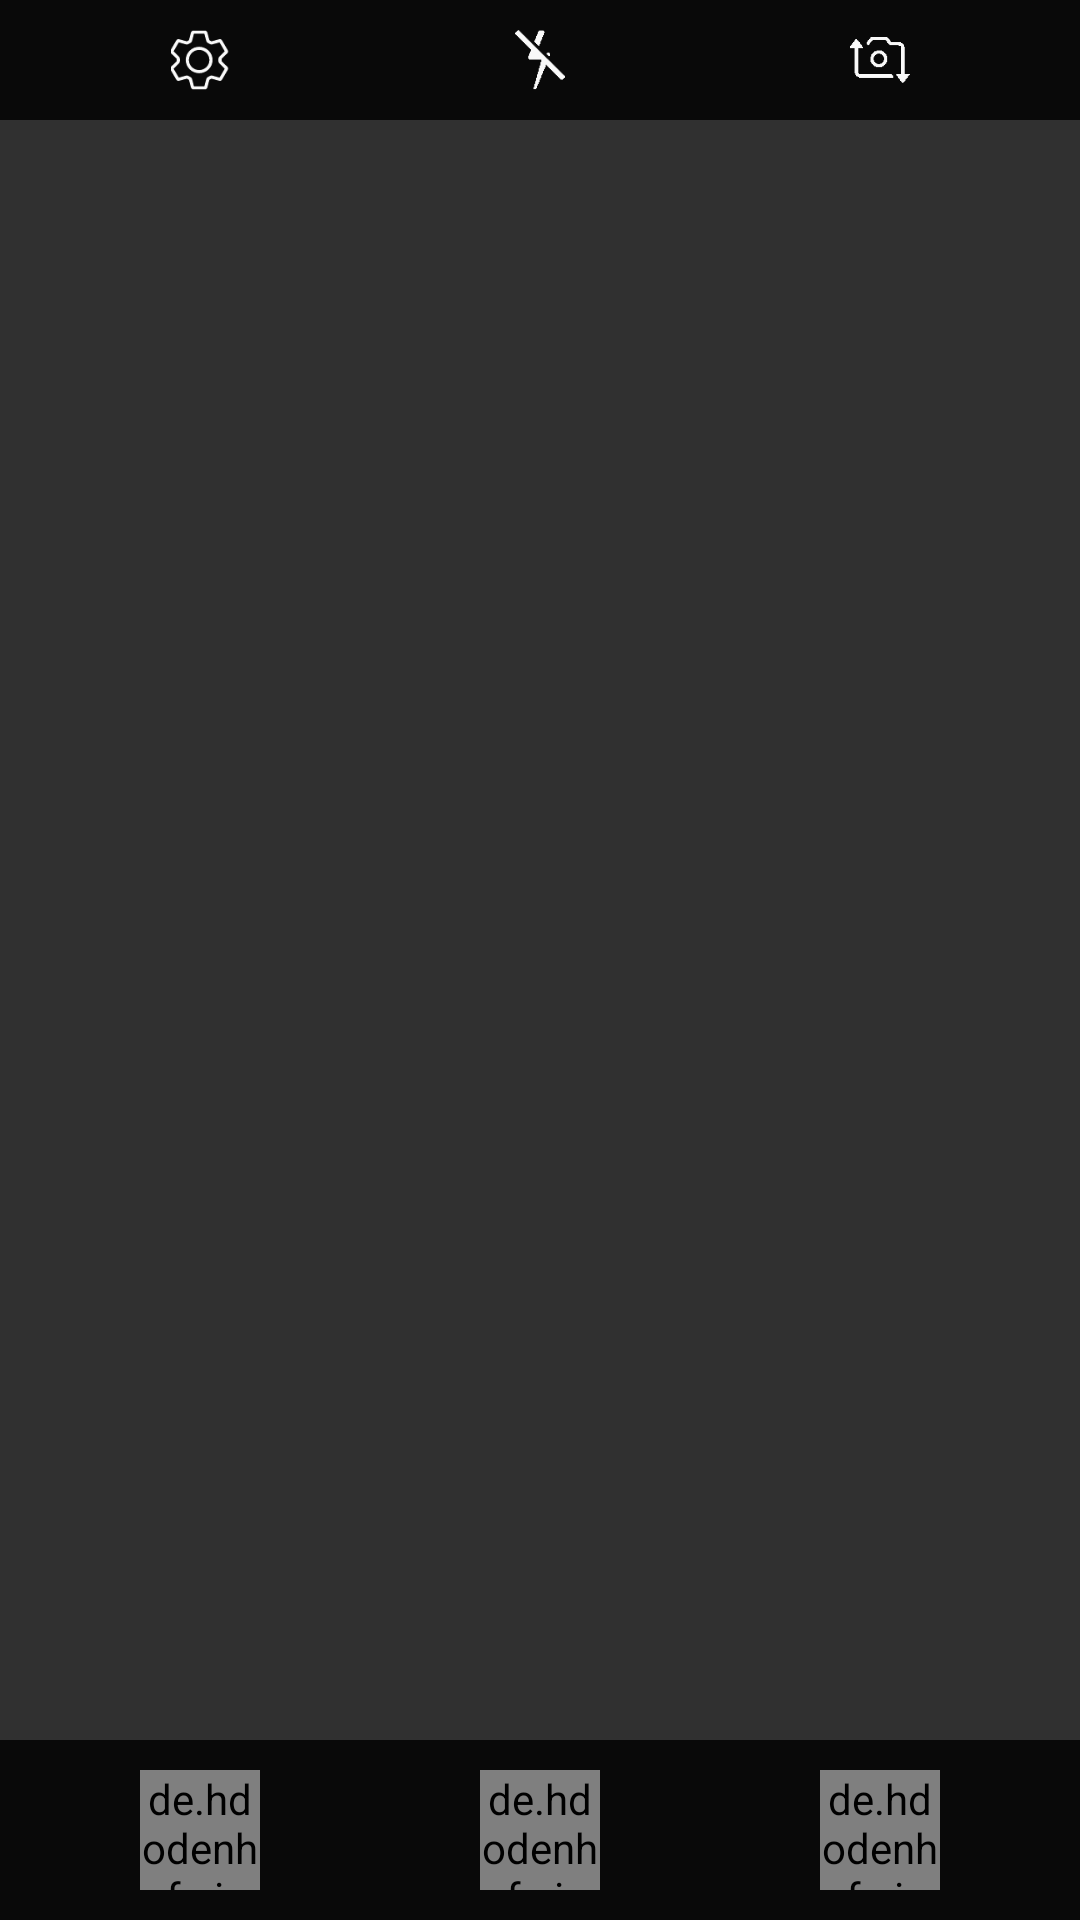

Point at icon controls on the screen. Image size 1080 × 1920, points as (x,y).
flashoff: (540,59)
flip: (880,60)
setting: (200,60)
